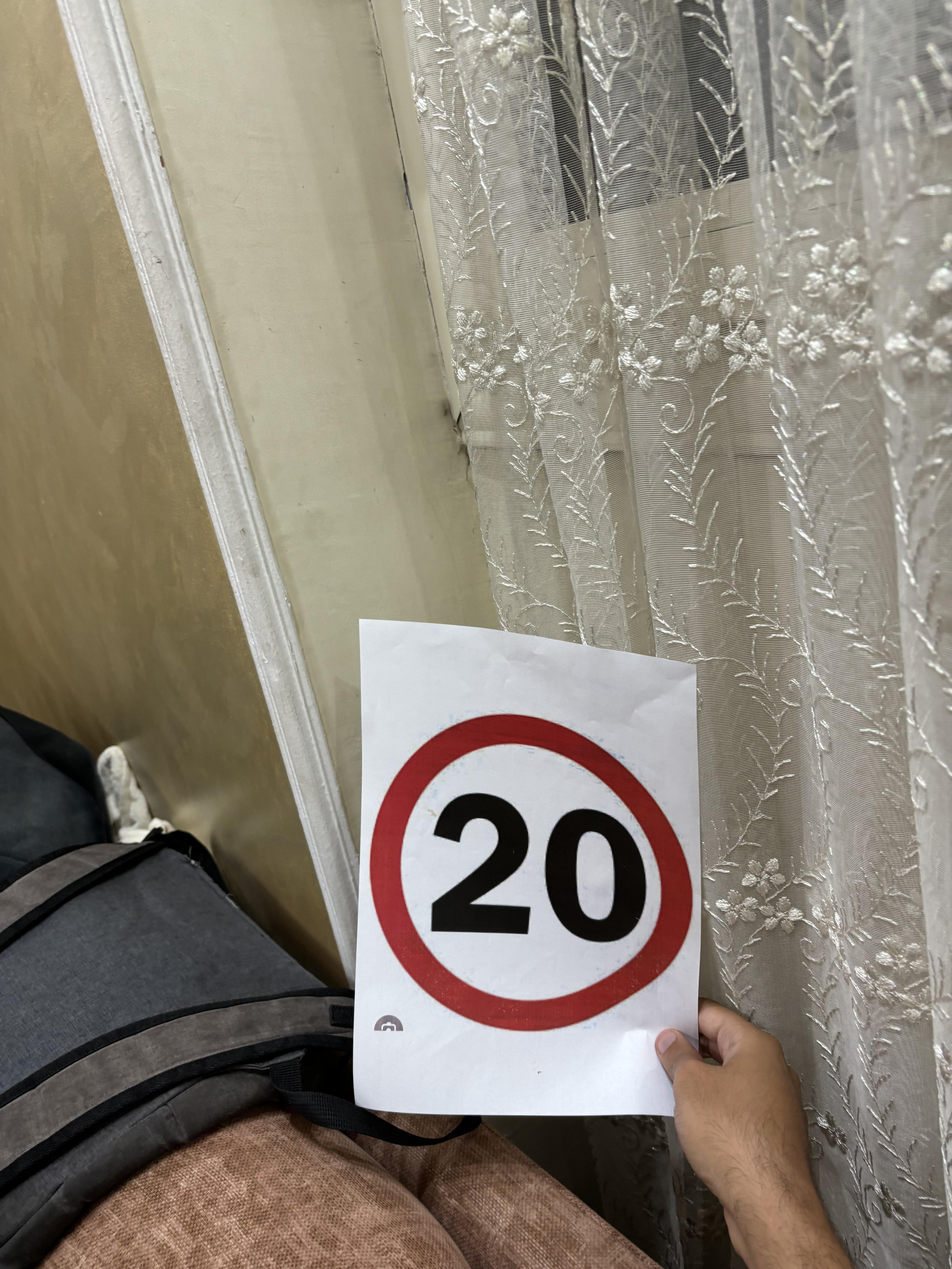20-Speed: (363, 709, 690, 1021)
